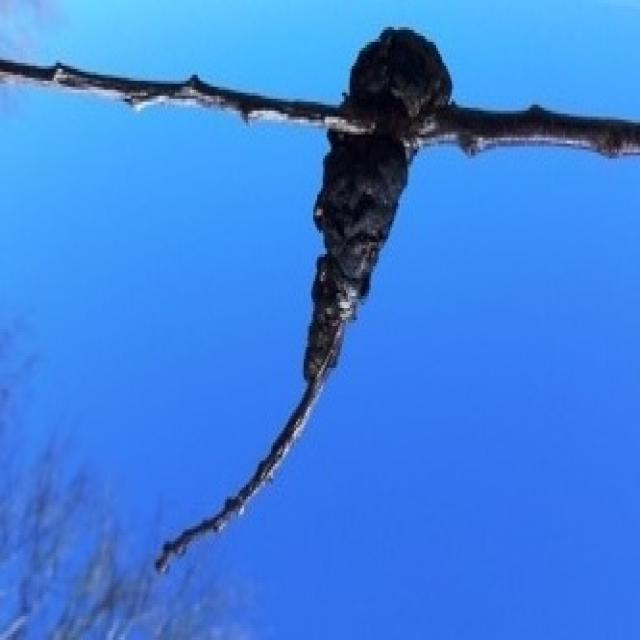Black_knot: (0, 18, 638, 574)
